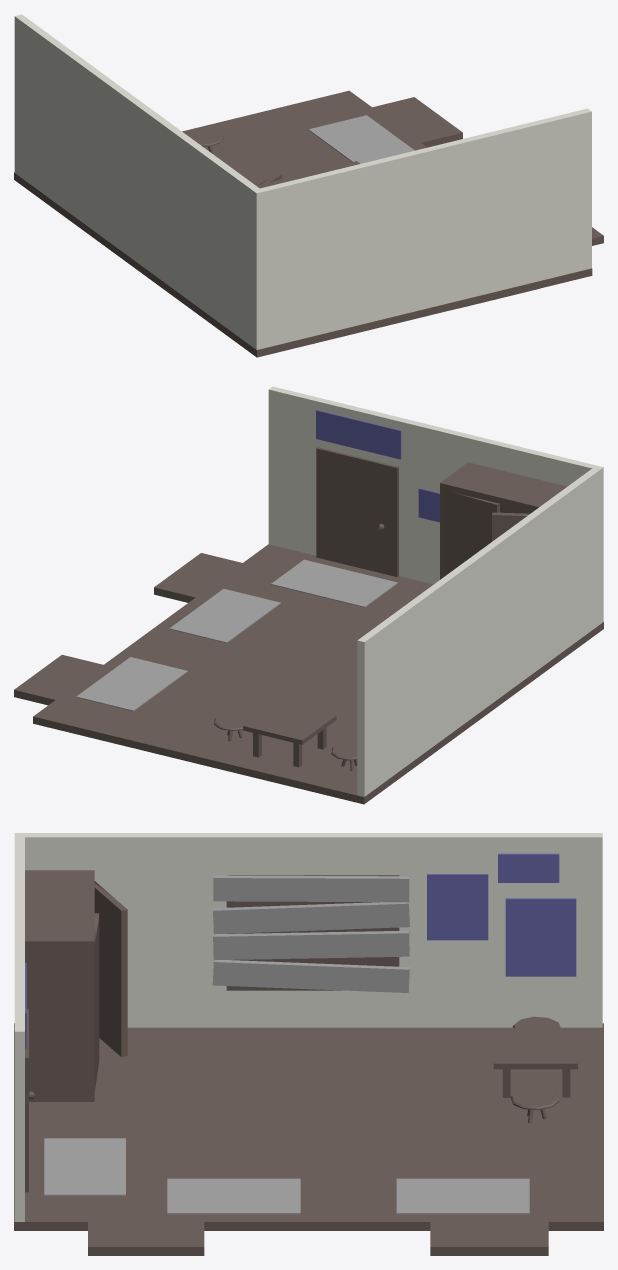
The model's file is House_LivingRoom.fbx.
3 renders of one model, top to bottom at view 1: azimuth 30°, elevation 25°; view 2: azimuth 150°, elevation 25°; view 3: azimuth 270°, elevation 25°, orthographic. The views are drawn at different scales.
Parts seen in each view (by area): view 1: Wall, Floor_1, Welcome_mat2, Wardobe, Stool; view 2: Wall, Floor_1, Door, Wardobe, Welcome_mat, Welcome_mat2, Welcome_mat1, Table, Picture4, Picture3, Stool; view 3: Floor_1, Wall, Wardobe, Picture2, Plank, Plank3, Plank4, Plank1, Welcome_mat1, Welcome_mat2, Welcome_mat, Picture (+6 smaller).
Part boxes in pixels (x1,y1,x2,y2): Wall: (14, 14, 591, 349); Floor_1: (14, 90, 603, 357); Welcome_mat2: (308, 115, 414, 163); Wardobe: (256, 161, 360, 188); Stool: (186, 128, 223, 154); Wall: (268, 386, 603, 796); Floor_1: (14, 544, 603, 804); Door: (316, 447, 398, 576); Wardobe: (440, 462, 567, 579); Welcome_mat: (271, 559, 397, 607); Welcome_mat2: (76, 657, 187, 711); Welcome_mat1: (169, 589, 280, 643); Table: (243, 701, 336, 767); Picture4: (316, 410, 401, 459); Picture3: (418, 488, 439, 522); Stool: (214, 712, 251, 741); Floor_1: (14, 1023, 603, 1255); Wall: (14, 833, 602, 1221); Wardobe: (25, 870, 127, 1101); Picture2: (505, 898, 576, 976); Plank: (213, 875, 409, 902); Plank3: (213, 930, 409, 960); Plank4: (212, 960, 409, 992); Plank1: (213, 902, 409, 934); Welcome_mat1: (167, 1178, 300, 1214); Welcome_mat2: (396, 1178, 529, 1214); Welcome_mat: (44, 1138, 125, 1195); Picture: (427, 874, 488, 940).
Size of the model in its own units: 1256 by 527 by 1400.
